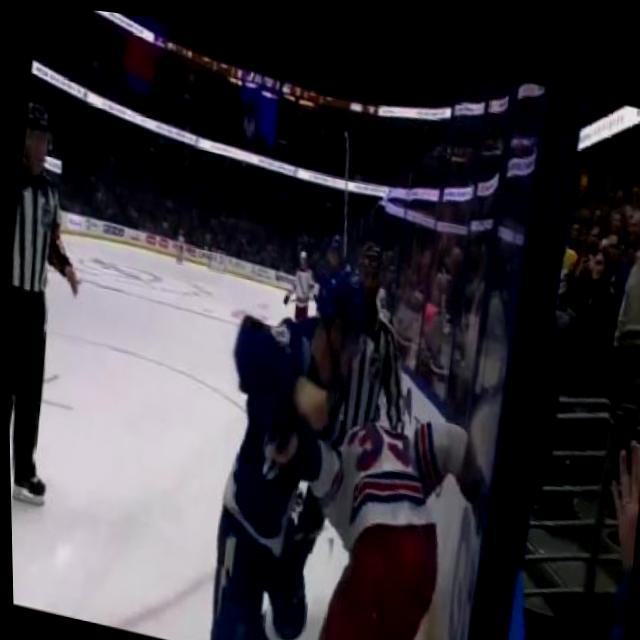fight: (193, 230, 503, 640)
